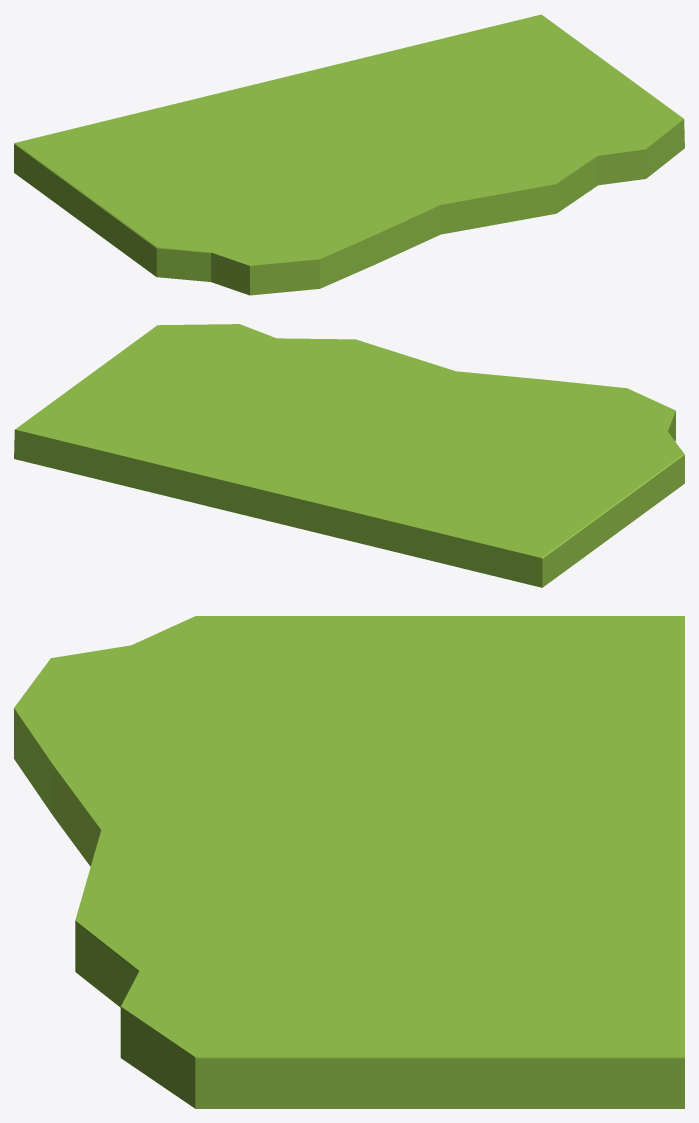
The model's file is gnd_end_green_01.fbx.
3 renders of one model, top to bottom at view 1: azimuth 30°, elevation 25°; view 2: azimuth 150°, elevation 25°; view 3: azimuth 270°, elevation 25°, orthographic. The views are drawn at different scales.
Visible parts, largest first — view 1: gnd_end_green_01; view 2: gnd_end_green_01; view 3: gnd_end_green_01.
Boxes of the visible parts, x1,y1,x2,y2 form: gnd_end_green_01: [14, 14, 684, 295]; gnd_end_green_01: [14, 324, 684, 587]; gnd_end_green_01: [14, 616, 684, 1108].
Size of the model in its own units: 7648 by 410 by 4900.
